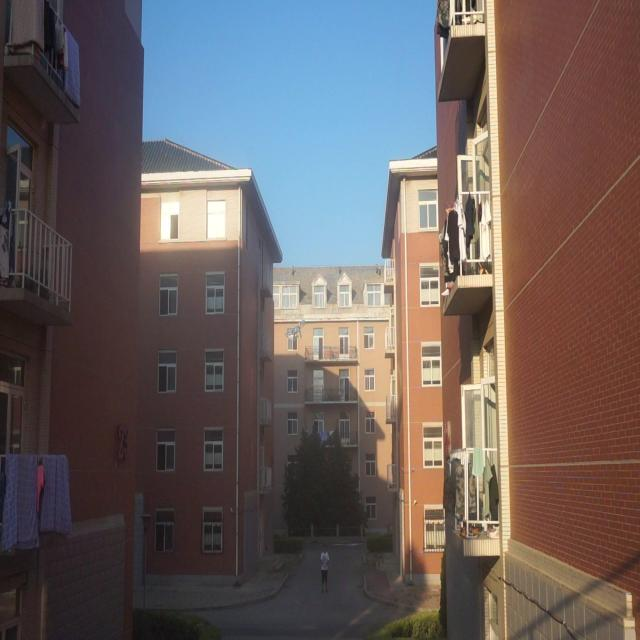drone: (284, 313, 306, 345)
